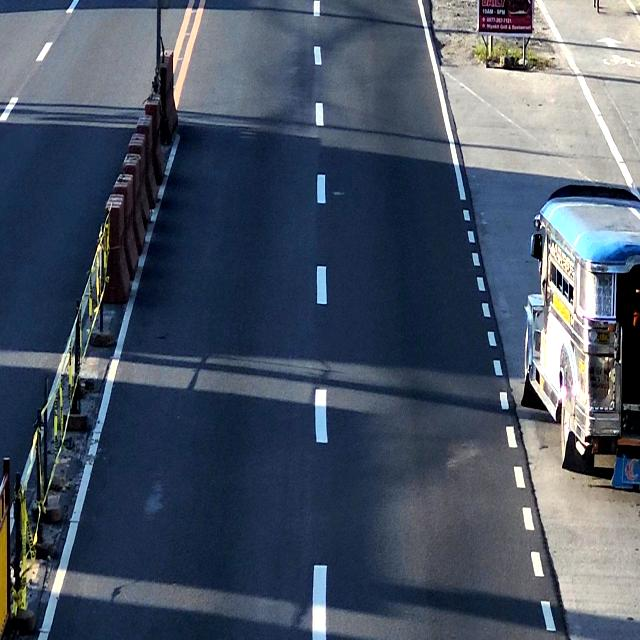Jeep: (525, 175, 640, 477)
